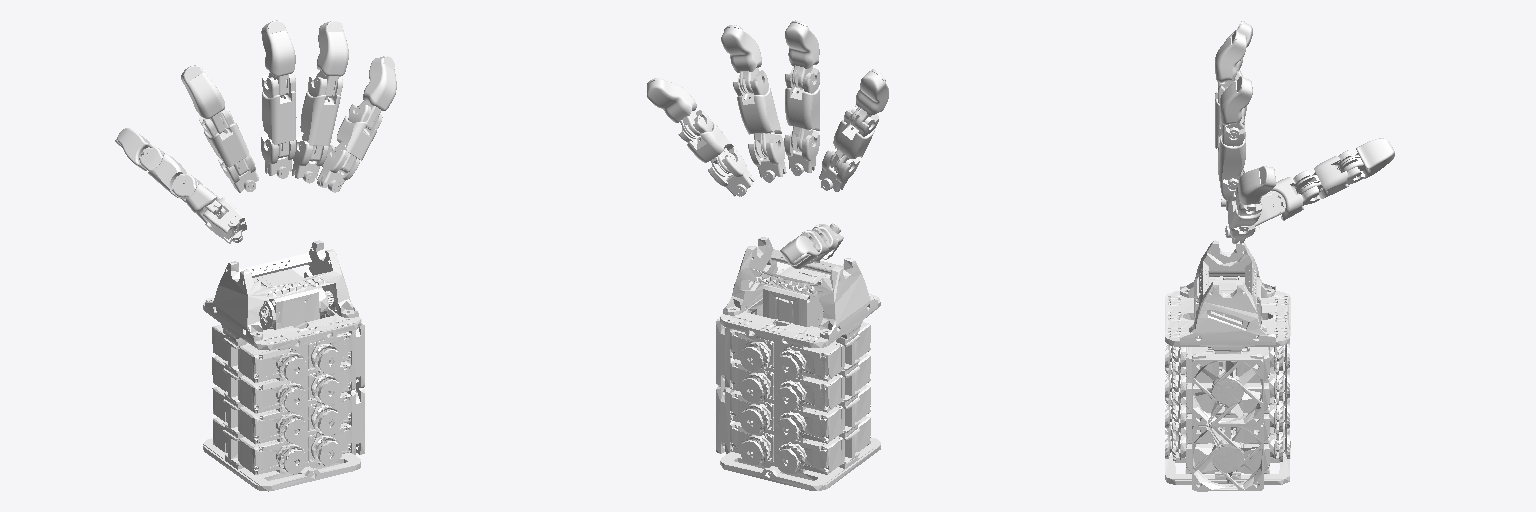
--- Facts derived from the render (not from the file) ---
3 views of the same robot in one strip: view 1: azimuth 30°, elevation 25°; view 2: azimuth 150°, elevation 25°; view 3: azimuth 270°, elevation 25° (orthographic).
Robot: converted_robot — 47 links, 46 joints (17 revolute, 29 fixed); root link hand_root; default pose: all joints at 0.
Links seen in each view (by area): view 1: tower, ring_pp, middle_pp, ring_mp, middle_mp, pinky_pp, pinky_mp, index_mp, index_pp, thumb_mp, thumb_pp, thumb_base (+5 smaller); view 2: tower, ring_pp, middle_pp, pinky_mp, ring_mp, pinky_pp, middle_mp, index_pp, index_mp, pinky_um, ring_um, middle_um (+2 smaller); view 3: tower, thumb_mp, ring_pp, thumb_pp, ring_mp, thumb_dp, pinky_mp, middle_mp, pinky_pp.
Link boxes in pixels (bbox=[...]): tower: bbox=[203, 240, 364, 491]; ring_pp: bbox=[299, 75, 342, 160]; middle_pp: bbox=[262, 75, 296, 157]; ring_mp: bbox=[314, 21, 348, 97]; middle_mp: bbox=[261, 20, 295, 96]; pinky_pp: bbox=[332, 104, 382, 172]; pinky_mp: bbox=[355, 56, 396, 129]; index_mp: bbox=[181, 65, 228, 133]; index_pp: bbox=[199, 108, 248, 175]; thumb_mp: bbox=[139, 146, 199, 202]; thumb_pp: bbox=[173, 173, 225, 223]; thumb_base: bbox=[203, 197, 246, 243]; tower: bbox=[716, 237, 880, 490]; ring_pp: bbox=[733, 70, 781, 157]; middle_pp: bbox=[785, 66, 819, 151]; pinky_mp: bbox=[647, 78, 705, 138]; ring_mp: bbox=[721, 25, 762, 93]; pinky_pp: bbox=[678, 110, 735, 176]; middle_mp: bbox=[785, 20, 819, 88]; index_pp: bbox=[830, 104, 878, 171]; index_mp: bbox=[850, 69, 888, 129]; pinky_um: bbox=[708, 148, 754, 196]; ring_um: bbox=[748, 135, 786, 182]; middle_um: bbox=[784, 131, 819, 175]; tower: bbox=[1165, 240, 1290, 491]; thumb_mp: bbox=[1296, 150, 1364, 198]; ring_pp: bbox=[1218, 116, 1245, 189]; thumb_pp: bbox=[1266, 170, 1320, 220]; ring_mp: bbox=[1220, 76, 1252, 138]; thumb_dp: bbox=[1339, 138, 1394, 178]; pinky_mp: bbox=[1236, 166, 1275, 211]; middle_mp: bbox=[1215, 31, 1246, 89]; pinky_pp: bbox=[1228, 187, 1261, 231].
Size in the robot's own frame: 0.1751 by 0.1587 by 0.3253 metres.
17 mesh visuals loaded from 10 distinct referenced files (9 binary STL); not drawn: 1 (reference not matched to a file when rendering).

URDF robot description (converted_robot):
<?xml version="1.0" ?>
<robot name="converted_robot">

   <link name="hand_root">
      <inertial>
         <origin xyz="0.0 0.0 0.0" rpy="0.0 0.0 0.0"/>
         <mass value="0.0"/>
         <inertia ixx="0.0" iyy="0.0" izz="0.0" ixy="0" ixz="0" iyz="0"/>
      </inertial>
   </link>
   <link name="tower">
      <inertial>
         <origin xyz="0.04400415913446807 -0.00019600571598279832 0.016186968516348432" rpy="-0.04390970715787945 -0.010429109452127383 1.5584993556360334"/>
         <mass value="2.9399146871191753"/>
         <inertia ixx="0.004203087796313103" iyy="0.004033870993159062" izz="0.0021268483526808678" ixy="0" ixz="0" iyz="0"/>
      </inertial>
      <visual name="TowerAssembly">
         <origin xyz="0.04400415913446807 -0.00019600571598279832 0.016186968516348432" rpy="-0.04390970715787934 -0.010429109452127161 1.5584993556360331"/>
         <geometry>
            <mesh filename="package://viz/models/orca_v1/urdf/converted_TowerAssembly.stl"/>
         </geometry>
         <material name="white"/>
      </visual>
   </link>
   <link name="root2tower_fixed_jointbody">
      <inertial>
         <origin xyz="0.0 0.0 0.0" rpy="0.0 0.0 0.0"/>
         <mass value="0.001"/>
         <inertia ixx="1e-09" iyy="1e-09" izz="1e-09" ixy="0" ixz="0" iyz="0"/>
      </inertial>
   </link>
   <joint type="fixed" name="root2tower_fixed">
      <parent link="hand_root"/>
      <child link="root2tower_fixed_jointbody"/>
      <origin xyz="0.0 0.0 0.0" rpy="0.0 0.0 0.0"/>
   </joint>
   <joint type="fixed" name="root2tower_fixed_offset">
      <parent link="root2tower_fixed_jointbody"/>
      <child link="tower"/>
      <origin xyz="-0.0 -0.0 -0.0" rpy="0.0 0.0 0.0"/>
   </joint>
   <link name="palm">
      <inertial>
         <origin xyz="0.002881508885013908 -0.0012753763120547524 -0.00719047153594366" rpy="1.5601655784799395 0.04189793519330931 1.5819461028160493"/>
         <mass value="0.2126860092978223"/>
         <inertia ixx="0.00012178343495389645" iyy="8.316880938872915e-05" izz="5.69755490120493e-05" ixy="0" ixz="0" iyz="0"/>
      </inertial>
      <visual name="CarpalsAssembly">
         <origin xyz="0.002881508885013908 -0.0012753763120547524 -0.00719047153594366" rpy="1.5601655784799395 0.041897935193309754 1.5819461028160493"/>
         <geometry>
            <mesh filename="package://viz/models/orca_v1/urdf/converted_CarpalsAssembly.stl"/>
         </geometry>
         <material name="white"/>
      </visual>
   </link>
   <link name="tower2root_jointbody">
      <inertial>
         <origin xyz="0.0 0.0 0.0" rpy="0.0 0.0 0.0"/>
         <mass value="0.001"/>
         <inertia ixx="1e-09" iyy="1e-09" izz="1e-09" ixy="0" ixz="0" iyz="0"/>
      </inertial>
   </link>
   <joint type="revolute" name="tower2root">
      <parent link="tower"/>
      <child link="tower2root_jointbody"/>
      <origin xyz="0.04062890845062731 3.686287386450715e-18 0.10237107458169505" rpy="-6.123233995736781e-17 -4.440892098500626e-16 1.942890293094021e-16"/>
      <axis xyz="-1.0000000000000009 -1.4791141972893971e-31 -1.0947644252537633e-46"/>
      <limit lower="-1.0471975511965976" upper="1.0471975511965976" effort="100" velocity="100"/>
   </joint>
   <joint type="fixed" name="tower2root_offset">
      <parent link="tower2root_jointbody"/>
      <child link="palm"/>
      <origin xyz="-0.002000000000000012 0.0014412498723578018 0.03871931353519552" rpy="0.0 0.0 0.0"/>
   </joint>
   <link name="thumb_base">
      <inertial>
         <origin xyz="0.010529379149451916 -1.0212576814423867e-05 8.495774869309947e-06" rpy="1.57634205707723 0.005687598820466988 1.5702436138290756"/>
         <mass value="0.0074875144010899545"/>
         <inertia ixx="4.915455361035425e-07" iyy="4.2329004702934465e-07" izz="4.1073011191217545e-07" ixy="0" ixz="0" iyz="0"/>
      </inertial>
      <visual name="T-TP-Assembly">
         <origin xyz="0.010529379149451916 -1.0212576814423867e-05 8.495774869309947e-06" rpy="1.5763420570772302 0.005687598820466988 1.5702436138290758"/>
         <geometry>
            <mesh filename="package://viz/models/orca_v1/urdf/converted_T-TP-Assembly.stl"/>
         </geometry>
         <material name="white"/>
      </visual>
   </link>
   <link name="root2thumb_base_jointbody">
      <inertial>
         <origin xyz="0.0 0.0 0.0" rpy="0.0 0.0 0.0"/>
         <mass value="0.001"/>
         <inertia ixx="1e-09" iyy="1e-09" izz="1e-09" ixy="0" ixz="0" iyz="0"/>
      </inertial>
   </link>
   <joint type="revolute" name="root2thumb_base">
      <parent link="palm"/>
      <child link="root2thumb_base_jointbody"/>
      <origin xyz="-0.026596228805379245 0.012467608905357173 -0.013731317517900202" rpy="-2.623243999248972 0.36429799059196055 -1.2778314442697774"/>
      <axis xyz="-2.920774733183862e-12 3.3306690738754696e-16 1.0000000000000002"/>
      <limit lower="-0.9250245035569946" upper="0.8377580409572782" effort="100" velocity="100"/>
   </joint>
   <joint type="fixed" name="root2thumb_base_offset">
      <parent link="root2thumb_base_jointbody"/>
      <child link="thumb_base"/>
      <origin xyz="-0.016999999999975042 -6.852157730108388e-17 -2.7301511745791984e-14" rpy="0.0 0.0 0.0"/>
   </joint>
   <link name="thumb_pp">
      <inertial>
         <origin xyz="0.01701004352669714 4.7003303999020595e-05 -8.686628129100978e-05" rpy="1.626541463931455 -1.4723264578922137 1.5252609362500364"/>
         <mass value="0.01402737042708516"/>
         <inertia ixx="1.3800850209807166e-06" iyy="1.1809029407566535e-06" izz="6.941321836664285e-07" ixy="0" ixz="0" iyz="0"/>
      </inertial>
      <visual name="T-AP-Assembly">
         <origin xyz="0.01701004352669714 4.7003303999020595e-05 -8.686628129100978e-05" rpy="1.6265414639314582 -1.4723264578922137 1.5252609362500333"/>
         <geometry>
            <mesh filename="package://viz/models/orca_v1/urdf/converted_T-AP-Assembly.stl"/>
         </geometry>
         <material name="white"/>
      </visual>
   </link>
   <link name="thumb_base2pp_jointbody">
      <inertial>
         <origin xyz="0.0 0.0 0.0" rpy="0.0 0.0 0.0"/>
         <mass value="0.001"/>
         <inertia ixx="1e-09" iyy="1e-09" izz="1e-09" ixy="0" ixz="0" iyz="0"/>
      </inertial>
   </link>
   <joint type="revolute" name="thumb_base2pp">
      <parent link="thumb_base"/>
      <child link="thumb_base2pp_jointbody"/>
      <origin xyz="-2.0816681711721685e-17 -0.006690243410563722 -0.00030669391648898483" rpy="1.9198621771937625 2.220446049250313e-16 -1.1102230246251565e-16"/>
      <axis xyz="-1.1102230246251565e-16 0.34202014332566866 0.9396926207859075"/>
      <limit lower="-0.7853981633974483" upper="0.7853981633974483" effort="100" velocity="100"/>
   </joint>
   <joint type="fixed" name="thumb_base2pp_offset">
      <parent link="thumb_base2pp_jointbody"/>
      <child link="thumb_pp"/>
      <origin xyz="-0.03 -0.002 -0.0063916678614429154" rpy="0.0 0.0 0.0"/>
   </joint>
   <link name="thumb_mp">
      <inertial>
         <origin xyz="0.0014151363770926754 5.956925618599269e-06 0.013627702691985757" rpy="-0.0012564590227194135 0.024765536359687035 0.0006197733490160217"/>
         <mass value="0.015497848277221124"/>
         <inertia ixx="1.846626969865921e-06" iyy="1.771855178330145e-06" izz="6.563672279788464e-07" ixy="0" ixz="0" iyz="0"/>
      </inertial>
      <visual name="P-PP-Assembly">
         <origin xyz="0.0014151363770926754 5.956925618599269e-06 0.013627702691985757" rpy="-0.0012564590227194135 0.024765536359687035 0.0006197733490160217"/>
         <geometry>
            <mesh filename="package://viz/models/orca_v1/urdf/converted_P-PP-Assembly.stl"/>
         </geometry>
         <material name="white"/>
      </visual>
   </link>
   <link name="thumb_pp2mp_jointbody">
      <inertial>
         <origin xyz="0.0 0.0 0.0" rpy="0.0 0.0 0.0"/>
         <mass value="0.001"/>
         <inertia ixx="1e-09" iyy="1e-09" izz="1e-09" ixy="0" ixz="0" iyz="0"/>
      </inertial>
   </link>
   <joint type="revolute" name="thumb_pp2mp">
      <parent link="thumb_pp"/>
      <child link="thumb_pp2mp_jointbody"/>
      <origin xyz="4.708523807784693e-17 1.513645907263937e-16 -4.2834101494079344e-17" rpy="-3.1415926535897927 1.5707963267948948 0.0"/>
      <axis xyz="-1.27675647831893e-15 -0.9999999999999994 4.996003610813204e-16"/>
      <limit lower="-0.3490658503988659" upper="2.007128639793479" effort="100" velocity="100"/>
   </joint>
   <joint type="fixed" name="thumb_pp2mp_offset">
      <parent link="thumb_pp2mp_jointbody"/>
      <child link="thumb_mp"/>
      <origin xyz="0.0 0.0 0.0" rpy="0.0 0.0 0.0"/>
   </joint>
   <link name="thumb_dp">
      <inertial>
         <origin xyz="0.0019263407363933048 1.4557758490367377e-05 0.013252605089620229" rpy="0.0005042469448421566 -0.01731928165759511 -0.007693848109361373"/>
         <mass value="0.01818889883021656"/>
         <inertia ixx="1.7342479877374563e-06" iyy="1.6928601517092007e-06" izz="6.72000990269703e-07" ixy="0" ixz="0" iyz="0"/>
      </inertial>
      <visual name="ThumbTipAssembly">
         <origin xyz="0.0019263407363933048 1.4557758490367377e-05 0.013252605089620229" rpy="0.0005042469448421566 -0.01731928165759511 -0.007693848109361373"/>
         <geometry>
            <mesh filename="package://viz/models/orca_v1/urdf/converted_ThumbTipAssembly.stl"/>
         </geometry>
         <material name="white"/>
      </visual>
   </link>
   <link name="thumb_mp2dp_jointbody">
      <inertial>
         <origin xyz="0.0 0.0 0.0" rpy="0.0 0.0 0.0"/>
         <mass value="0.001"/>
         <inertia ixx="1e-09" iyy="1e-09" izz="1e-09" ixy="0" ixz="0" iyz="0"/>
      </inertial>
   </link>
   <joint type="revolute" name="thumb_mp2dp">
      <parent link="thumb_mp"/>
      <child link="thumb_mp2dp_jointbody"/>
      <origin xyz="0.0004999999999845258 1.960237527853792e-16 0.03299999999999989" rpy="-4.440892098500625e-16 -4.440892098500626e-16 -1.110223024625157e-15"/>
      <axis xyz="-1.3877787807814457e-16 -1.0000000000000018 1.6653345369377348e-16"/>
      <limit lower="-0.3490658503988659" upper="1.7453292519943295" effort="100" velocity="100"/>
   </joint>
   <joint type="fixed" name="thumb_mp2dp_offset">
      <parent link="thumb_mp2dp_jointbody"/>
      <child link="thumb_dp"/>
      <origin xyz="0.0 0.0 -0.0" rpy="0.0 0.0 0.0"/>
   </joint>
   <link name="thumb_fingertip">
      <inertial>
         <origin xyz="0.0 0.0 0.03" rpy="0.0 0.0 0.0"/>
         <mass value="0.0"/>
         <inertia ixx="0.0" iyy="0.0" izz="0.0" ixy="0" ixz="0" iyz="0"/>
      </inertial>
   </link>
   <link name="thumb_dp2thumb_fingertip_fixed_jointbody">
      <inertial>
         <origin xyz="0.0 0.0 0.0" rpy="0.0 0.0 0.0"/>
         <mass value="0.001"/>
         <inertia ixx="1e-09" iyy="1e-09" izz="1e-09" ixy="0" ixz="0" iyz="0"/>
      </inertial>
   </link>
   <joint type="fixed" name="thumb_dp2thumb_fingertip_fixed">
      <parent link="thumb_dp"/>
      <child link="thumb_dp2thumb_fingertip_fixed_jointbody"/>
      <origin xyz="0.0 0.0 0.03" rpy="0.0 0.0 0.0"/>
   </joint>
   <joint type="fixed" name="thumb_dp2thumb_fingertip_fixed_offset">
      <parent link="thumb_dp2thumb_fingertip_fixed_jointbody"/>
      <child link="thumb_fingertip"/>
      <origin xyz="-0.0 -0.0 -0.0" rpy="0.0 0.0 0.0"/>
   </joint>
   <link name="index_um">
      <inertial>
         <origin xyz="0.011354078973426326 -1.7071698548170895e-06 -3.5584781475470163e-06" rpy="-0.7312124368167698 -1.5694148998517659 -2.4105624217590647"/>
         <mass value="0.006625913032045117"/>
         <inertia ixx="4.786348664569036e-07" iyy="4.4192916777269033e-07" izz="2.7095034582421024e-07" ixy="0" ixz="0" iyz="0"/>
      </inertial>
      <visual name="AP-Assembly">
         <origin xyz="0.011354078973426326 -1.7071698548170895e-06 -3.5584781475470163e-06" rpy="-0.7312124368167698 -1.5694148998517659 -2.4105624217590647"/>
         <geometry>
            <mesh filename="package://viz/models/orca_v1/urdf/converted_AP-Assembly.stl"/>
         </geometry>
         <material name="white"/>
      </visual>
   </link>
   <link name="index_abd_jointbody">
      <inertial>
         <origin xyz="0.0 0.0 0.0" rpy="0.0 0.0 0.0"/>
         <mass value="0.001"/>
         <inertia ixx="1e-09" iyy="1e-09" izz="1e-09" ixy="0" ixz="0" iyz="0"/>
      </inertial>
   </link>
   <joint type="revolute" name="index_abd">
      <parent link="palm"/>
      <child link="index_abd_jointbody"/>
      <origin xyz="-0.02409178493002779 0.0019042822195537534 0.025160679302658893" rpy="1.608102038715379 1.1529632074851635 -0.051848338904223135"/>
      <axis xyz="4.163336342344337e-17 9.992007221626409e-16 -1.0000000000000013"/>
      <limit lower="-0.5235987755982988" upper="0.5235987755982988" effort="100" velocity="100"/>
   </joint>
   <joint type="fixed" name="index_abd_offset">
      <parent link="index_abd_jointbody"/>
      <child link="index_um"/>
      <origin xyz="-0.020000000000000052 2.3852447794681098e-18 -4.336808689942018e-19" rpy="0.0 0.0 0.0"/>
   </joint>
   <link name="index_pp">
      <inertial>
         <origin xyz="0.0014143363519175582 4.156494435167203e-06 0.01613338680226874" rpy="-0.001102572366200157 0.015527459248408038 0.0006067795128342916"/>
         <mass value="0.018700586463984262"/>
         <inertia ixx="2.662336289616557e-06" iyy="2.5653412309208117e-06" izz="8.02677011751458e-07" ixy="0" ixz="0" iyz="0"/>
      </inertial>
      <visual name="I-PP-Assembly">
         <origin xyz="0.0014143363519175582 4.156494435167203e-06 0.01613338680226874" rpy="-0.001102572366200157 0.015527459248408038 0.0006067795128342916"/>
         <geometry>
            <mesh filename="package://viz/models/orca_v1/urdf/converted_I-PP-Assembly.stl"/>
         </geometry>
         <material name="white"/>
      </visual>
   </link>
   <link name="root2index_pp_jointbody">
      <inertial>
         <origin xyz="0.0 0.0 0.0" rpy="0.0 0.0 0.0"/>
         <mass value="0.001"/>
         <inertia ixx="1e-09" iyy="1e-09" izz="1e-09" ixy="0" ixz="0" iyz="0"/>
      </inertial>
   </link>
   <joint type="revolute" name="root2index_pp">
      <parent link="index_um"/>
      <child link="root2index_pp_jointbody"/>
      <origin xyz="-2.5541056475587942e-17 1.0557908552474885e-17 -8.628646044820514e-18" rpy="-7.850462293418875e-17 -1.5707963267948963 0.0"/>
      <axis xyz="-1.1102230246251565e-15 -0.9999999999999998 -8.326672684688674e-17"/>
      <limit lower="-0.3490658503988659" upper="1.9198621771937625" effort="100" velocity="100"/>
   </joint>
   <joint type="fixed" name="root2index_pp_offset">
      <parent link="root2index_pp_jointbody"/>
      <child link="index_pp"/>
      <origin xyz="8.62864604482052e-18 -1.0557908552474884e-17 -2.5541056475587933e-17" rpy="0.0 0.0 0.0"/>
   </joint>
   <link name="index_mp">
      <inertial>
         <origin xyz="0.0004395758025904904 2.294210842752089e-05 0.017234999921076924" rpy="-0.0002952414540531474 -0.13694120498566353 0.004582776782163111"/>
         <mass value="0.018229214728618118"/>
         <inertia ixx="2.7483316705449915e-06" iyy="2.7260398150926247e-06" izz="5.982307965118894e-07" ixy="0" ixz="0" iyz="0"/>
      </inertial>
      <visual name="FingerTipAssembly">
         <origin xyz="0.0004395758025904904 2.294210842752089e-05 0.017234999921076924" rpy="-0.0002952414540531474 -0.13694120498566353 0.004582776782163111"/>
         <geometry>
            <mesh filename="package://viz/models/orca_v1/urdf/converted_FingerTipAssembly.stl"/>
         </geometry>
         <material name="white"/>
      </visual>
   </link>
   <link name="index_pp2mp_jointbody">
      <inertial>
         <origin xyz="0.0 0.0 0.0" rpy="0.0 0.0 0.0"/>
         <mass value="0.001"/>
         <inertia ixx="1e-09" iyy="1e-09" izz="1e-09" ixy="0" ixz="0" iyz="0"/>
      </inertial>
   </link>
   <joint type="revolute" name="index_pp2mp">
      <parent link="index_pp"/>
      <child link="index_pp2mp_jointbody"/>
      <origin xyz="0.0004999999999839601 6.589248156966668e-17 0.038" rpy="0.0 0.0 1.1102230246251565e-16"/>
      <axis xyz="-1.1102230246251565e-15 -0.9999999999999998 -8.326672684688674e-17"/>
      <limit lower="-0.3490658503988659" upper="2.2689280275926285" effort="100" velocity="100"/>
   </joint>
   <joint type="fixed" name="index_pp2mp_offset">
      <parent link="index_pp2mp_jointbody"/>
      <child link="index_mp"/>
      <origin xyz="4.506562989359519e-18 -5.895358766575946e-17 -6.487401240321147e-17" rpy="0.0 0.0 0.0"/>
   </joint>
   <link name="index_fingertip">
      <inertial>
         <origin xyz="-0.009 0.0 0.04" rpy="0.0 0.0 0.0"/>
         <mass value="0.0"/>
         <inertia ixx="0.0" iyy="0.0" izz="0.0" ixy="0" ixz="0" iyz="0"/>
      </inertial>
   </link>
   <link name="index_mp2index_fingertip_fixed_jointbody">
      <inertial>
         <origin xyz="0.0 0.0 0.0" rpy="0.0 0.0 0.0"/>
         <mass value="0.001"/>
         <inertia ixx="1e-09" iyy="1e-09" izz="1e-09" ixy="0" ixz="0" iyz="0"/>
      </inertial>
   </link>
   <joint type="fixed" name="index_mp2index_fingertip_fixed">
      <parent link="index_mp"/>
      <child link="index_mp2index_fingertip_fixed_jointbody"/>
      <origin xyz="-0.009 0.0 0.04" rpy="0.0 0.0 0.0"/>
   </joint>
   <joint type="fixed" name="index_mp2index_fingertip_fixed_offset">
      <parent link="index_mp2index_fingertip_fixed_jointbody"/>
      <child link="index_fingertip"/>
      <origin xyz="-0.0 -0.0 -0.0" rpy="0.0 0.0 0.0"/>
   </joint>
   <link name="pinky_um">
      <inertial>
         <origin xyz="0.011354078973426326 -1.7071698548170895e-06 -3.5584781475470163e-06" rpy="-0.7312124368167698 -1.5694148998517659 -2.4105624217590647"/>
         <mass value="0.006625913032045117"/>
         <inertia ixx="4.786348664569036e-07" iyy="4.4192916777269033e-07" izz="2.7095034582421024e-07" ixy="0" ixz="0" iyz="0"/>
      </inertial>
      <visual name="AP-Assembly">
         <origin xyz="0.011354078973426326 -1.7071698548170895e-06 -3.5584781475470163e-06" rpy="-0.7312124368167698 -1.5694148998517659 -2.4105624217590647"/>
         <geometry>
            <mesh filename="package://viz/models/orca_v1/urdf/converted_AP-Assembly.stl"/>
         </geometry>
         <material name="white"/>
      </visual>
   </link>
   <link name="pinky_abd_jointbody">
      <inertial>
         <origin xyz="0.0 0.0 0.0" rpy="0.0 0.0 0.0"/>
         <mass value="0.001"/>
         <inertia ixx="1e-09" iyy="1e-09" izz="1e-09" ixy="0" ixz="0" iyz="0"/>
      </inertial>
   </link>
   <joint type="revolute" name="pinky_abd">
      <parent link="palm"/>
      <child link="pinky_abd_jointbody"/>
      <origin xyz="0.04258768282792981 0.004991925321003577 0.007247738795820427" rpy="-1.4969430651841689 0.8614853700810636 -2.883730096597108"/>
      <axis xyz="1.942890293094024e-16 -5.551115123125783e-16 -0.9999999999999997"/>
      <limit lower="-0.5235987755982988" upper="0.5235987755982988" effort="100" velocity="100"/>
   </joint>
   <joint type="fixed" name="pinky_abd_offset">
      <parent link="pinky_abd_jointbody"/>
      <child link="pinky_um"/>
      <origin xyz="-0.020000000000000014 -2.42861286636753e-17 -6.071532165918825e-18" rpy="0.0 0.0 0.0"/>
   </joint>
   <link name="pinky_pp">
      <inertial>
         <origin xyz="0.0014151363770926754 5.956925618599269e-06 0.013627702691985757" rpy="-0.0012564590227194135 0.024765536359687035 0.0006197733490160217"/>
         <mass value="0.015497848277221124"/>
         <inertia ixx="1.846626969865921e-06" iyy="1.771855178330145e-06" izz="6.563672279788464e-07" ixy="0" ixz="0" iyz="0"/>
      </inertial>
      <visual name="P-PP-Assembly">
         <origin xyz="0.0014151363770926754 5.956925618599269e-06 0.013627702691985757" rpy="-0.0012564590227194135 0.024765536359687035 0.0006197733490160217"/>
         <geometry>
            <mesh filename="package://viz/models/orca_v1/urdf/converted_P-PP-Assembly.stl"/>
         </geometry>
         <material name="white"/>
      </visual>
   </link>
   <link name="root2pinky_pp_jointbody">
      <inertial>
         <origin xyz="0.0 0.0 0.0" rpy="0.0 0.0 0.0"/>
         <mass value="0.001"/>
         <inertia ixx="1e-09" iyy="1e-09" izz="1e-09" ixy="0" ixz="0" iyz="0"/>
      </inertial>
   </link>
   <joint type="revolute" name="root2pinky_pp">
      <parent link="pinky_um"/>
      <child link="root2pinky_pp_jointbody"/>
      <origin xyz="-9.80194474041885e-17 2.8970456895533516e-17 -1.0346526674750982e-18" rpy="7.850462293418872e-17 -1.5707963267948961 0.0"/>
      <axis xyz="-1.6653345369377348e-16 -1.0000000000000004 -2.220446049250313e-16"/>
      <limit lower="-0.3490658503988659" upper="1.9198621771937625" effort="100" velocity="100"/>
   </joint>
   <joint type="fixed" name="root2pinky_pp_offset">
      <parent link="root2pinky_pp_jointbody"/>
      <child link="pinky_pp"/>
      <origin xyz="-3.4409772224679328e-18 -3.9175276362032155e-17 -1.0647123163719203e-16" rpy="0.0 0.0 0.0"/>
   </joint>
   <link name="pinky_mp">
      <inertial>
         <origin xyz="0.0004395758025904904 2.294210842752089e-05 0.017234999921076924" rpy="-0.0002952414540531474 -0.13694120498566353 0.004582776782163111"/>
         <mass value="0.018229214728618118"/>
         <inertia ixx="2.7483316705449915e-06" iyy="2.7260398150926247e-06" izz="5.982307965118894e-07" ixy="0" ixz="0" iyz="0"/>
      </inertial>
      <visual name="FingerTipAssembly">
         <origin xyz="0.0004395758025904904 2.294210842752089e-05 0.017234999921076924" rpy="-0.0002952414540531474 -0.13694120498566353 0.004582776782163111"/>
         <geometry>
            <mesh filename="package://viz/models/orca_v1/urdf/converted_FingerTipAssembly.stl"/>
         </geometry>
         <material name="white"/>
      </visual>
   </link>
   <link name="pinky_pp2mp_jointbody">
      <inertial>
         <origin xyz="0.0 0.0 0.0" rpy="0.0 0.0 0.0"/>
         <mass value="0.001"/>
         <inertia ixx="1e-09" iyy="1e-09" izz="1e-09" ixy="0" ixz="0" iyz="0"/>
      </inertial>
   </link>
   <joint type="revolute" name="pinky_pp2mp">
      <parent link="pinky_pp"/>
      <child link="pinky_pp2mp_jointbody"/>
      <origin xyz="0.0004999999999844908 -2.39390297194962e-18 0.032999999999999946" rpy="-1.1102230246251565e-16 0.0 -1.1102230246251565e-16"/>
      <axis xyz="-2.7755575615628914e-16 -1.0000000000000007 -2.498001805406602e-16"/>
      <limit lower="-0.3490658503988659" upper="2.2689280275926285" effort="100" velocity="100"/>
   </joint>
   <joint type="fixed" name="pinky_pp2mp_offset">
      <parent link="pinky_pp2mp_jointbody"/>
      <child link="pinky_mp"/>
      <origin xyz="4.630531374131085e-18 3.7088372491485756e-17 3.145406773126967e-17" rpy="0.0 0.0 0.0"/>
   </joint>
   <link name="pinky_fingertip">
      <inertial>
         <origin xyz="-0.009 0.0 0.04" rpy="0.0 0.0 0.0"/>
         <mass value="0.0"/>
         <inertia ixx="0.0" iyy="0.0" izz="0.0" ixy="0" ixz="0" iyz="0"/>
      </inertial>
   </link>
   <link name="pinky_mp2pinky_fingertip_fixed_jointbody">
      <inertial>
         <origin xyz="0.0 0.0 0.0" rpy="0.0 0.0 0.0"/>
         <mass value="0.001"/>
         <inertia ixx="1e-09" iyy="1e-09" izz="1e-09" ixy="0" ixz="0" iyz="0"/>
      </inertial>
   </link>
   <joint type="fixed" name="pinky_mp2pinky_fingertip_fixed">
      <parent link="pinky_mp"/>
      <child link="pinky_mp2pinky_fingertip_fixed_jointbody"/>
      <origin xyz="-0.009 0.0 0.04" rpy="0.0 0.0 0.0"/>
   </joint>
   <joint type="fixed" name="pinky_mp2pinky_fingertip_fixed_offset">
      <parent link="pinky_mp2pinky_fingertip_fixed_jointbody"/>
      <child link="pinky_fingertip"/>
      <origin xyz="-0.0 -0.0 -0.0" rpy="0.0 0.0 0.0"/>
   </joint>
   <link name="middle_um">
      <inertial>
         <origin xyz="0.011354078973426326 -1.7071698548170895e-06 -3.5584781475470163e-06" rpy="-0.7312124368167698 -1.5694148998517659 -2.4105624217590647"/>
         <mass value="0.006625913032045117"/>
         <inertia ixx="4.786348664569036e-07" iyy="4.4192916777269033e-07" izz="2.7095034582421024e-07" ixy="0" ixz="0" iyz="0"/>
      </inertial>
      <visual name="AP-Assembly">
         <origin xyz="0.011354078973426326 -1.7071698548170895e-06 -3.5584781475470163e-06" rpy="-0.7312124368167698 -1.5694148998517659 -2.4105624217590647"/>
         <geometry>
            <mesh filename="package://viz/models/orca_v1/urdf/converted_AP-Assembly.stl"/>
         </geometry>
         <material name="white"/>
      </visual>
   </link>
   <link name="middle_abd_jointbody">
      <inertial>
         <origin xyz="0.0 0.0 0.0" rpy="0.0 0.0 0.0"/>
         <mass value="0.001"/>
         <inertia ixx="1e-09" iyy="1e-09" izz="1e-09" ixy="0" ixz="0" iyz="0"/>
      </inertial>
   </link>
   <joint type="revolute" name="middle_abd">
      <parent link="palm"/>
      <child link="middle_abd_jointbody"/>
      <origin xyz="4.881579836291013e-18 -8.567697285510997e-18 0.03" rpy="1.5707963267948966 1.5707963267948966 0.0"/>
      <axis xyz="-9.645057161491277e-31 -1.6653345369377348e-16 -0.9999999999999998"/>
      <limit lower="-0.5235987755982988" upper="0.5235987755982988" effort="100" velocity="100"/>
   </joint>
   <joint type="fixed" name="middle_abd_offset">
      <parent link="middle_abd_jointbody"/>
      <child link="middle_um"/>
      <origin xyz="-0.019999999999999987 -3.771356811665857e-18 1.701695755040975e-18" rpy="0.0 0.0 0.0"/>
   </joint>
   <link name="middle_pp">
      <inertial>
         <origin xyz="0.0015215641155183913 3.409155126104343e-06 0.019988197676665105" rpy="-0.0008675700761155622 0.013815007172908844 0.001849376719566181"/>
         <mass value="0.023556963904505242"/>
         <inertia ixx="4.4203229364973464e-06" iyy="4.276694367220302e-06" izz="1.0089823927588865e-06" ixy="0" ixz="0" iyz="0"/>
      </inertial>
      <visual name="M-PP-Assembly">
         <origin xyz="0.0015215641155183913 3.409155126104343e-06 0.019988197676665105" rpy="-0.000867570076115562 0.013815007172908844 0.0018493767195661807"/>
         <geometry>
            <mesh filename="package://viz/models/orca_v1/urdf/converted_M-PP-Assembly.stl"/>
         </geometry>
         <material name="white"/>
      </visual>
   </link>
   <link name="root2middle_pp_jointbody">
      <inertial>
         <origin xyz="0.0 0.0 0.0" rpy="0.0 0.0 0.0"/>
         <mass value="0.001"/>
         <inertia ixx="1e-09" iyy="1e-09" izz="1e-09" ixy="0" ixz="0" iyz="0"/>
      </inertial>
   </link>
   <joint type="revolute" name="root2middle_pp">
      <parent link="middle_um"/>
      <child link="root2middle_pp_jointbody"/>
      <origin xyz="-8.326672684688675e-17 1.0477058897466563e-31 9.860761315262648e-32" rpy="0.0 -1.5707963267948963 0.0"/>
      <axis xyz="1.1102230246251565e-16 -1.0000000000000004 -2.7755575615628914e-17"/>
      <limit lower="-0.3490658503988659" upper="1.9198621771937625" effort="100" velocity="100"/>
   </joint>
   <joint type="fixed" name="root2middle_pp_offset">
      <parent link="root2middle_pp_jointbody"/>
      <child link="middle_pp"/>
      <origin xyz="-8.011868568650901e-32 -1.0477058897466563e-31 -8.326672684688675e-17" rpy="0.0 0.0 0.0"/>
   </joint>
   <link name="middle_mp">
      <inertial>
         <origin xyz="0.0004395758025904904 2.294210842752089e-05 0.017234999921076924" rpy="-0.0002952414540531474 -0.13694120498566353 0.004582776782163111"/>
         <mass value="0.018229214728618118"/>
         <inertia ixx="2.7483316705449915e-06" iyy="2.7260398150926247e-06" izz="5.982307965118894e-07" ixy="0" ixz="0" iyz="0"/>
      </inertial>
      <visual name="FingerTipAssembly">
         <origin xyz="0.0004395758025904904 2.294210842752089e-05 0.017234999921076924" rpy="-0.0002952414540531474 -0.13694120498566353 0.004582776782163111"/>
         <geometry>
            <mesh filename="package://viz/models/orca_v1/urdf/converted_FingerTipAssembly.stl"/>
         </geometry>
         <material name="white"/>
      </visual>
   </link>
   <link name="middle_pp2mp_jointbody">
      <inertial>
         <origin xyz="0.0 0.0 0.0" rpy="0.0 0.0 0.0"/>
         <mass value="0.001"/>
         <inertia ixx="1e-09" iyy="1e-09" izz="1e-09" ixy="0" ixz="0" iyz="0"/>
      </inertial>
   </link>
   <joint type="revolute" name="middle_pp2mp">
      <parent link="middle_pp"/>
      <child link="middle_pp2mp_jointbody"/>
      <origin xyz="0.0004999999999727624 -3.4694469519535125e-18 0.04600000000000015" rpy="0.0 0.0 0.0"/>
      <axis xyz="1.1102230246251565e-16 -1.0000000000000004 -2.7755575615628914e-17"/>
      <limit lower="-0.3490658503988659" upper="2.2689280275926285" effort="100" velocity="100"/>
   </joint>
   <joint type="fixed" name="middle_pp2mp_offset">
      <parent link="middle_pp2mp_jointbody"/>
      <child link="middle_mp"/>
      <origin xyz="-5.421010862428354e-19 -1.0168910106364605e-31 -8.326672684688675e-17" rpy="0.0 0.0 0.0"/>
   </joint>
   <link name="middle_fingertip">
      <inertial>
         <origin xyz="-0.009 0.0 0.04" rpy="0.0 0.0 0.0"/>
         <mass value="0.0"/>
         <inertia ixx="0.0" iyy="0.0" izz="0.0" ixy="0" ixz="0" iyz="0"/>
      </inertial>
   </link>
   <link name="middle_mp2middle_fingertip_fixed_jointbody">
      <inertial>
         <origin xyz="0.0 0.0 0.0" rpy="0.0 0.0 0.0"/>
         <mass value="0.001"/>
         <inertia ixx="1e-09" iyy="1e-09" izz="1e-09" ixy="0" ixz="0" iyz="0"/>
      </inertial>
   </link>
   <joint type="fixed" name="middle_mp2middle_fingertip_fixed">
      <parent link="middle_mp"/>
      <child link="middle_mp2middle_fingertip_fixed_jointbody"/>
      <origin xyz="-0.009 0.0 0.04" rpy="0.0 0.0 0.0"/>
   </joint>
   <joint type="fixed" name="middle_mp2middle_fingertip_fixed_offset">
      <parent link="middle_mp2middle_fingertip_fixed_jointbody"/>
      <child link="middle_fingertip"/>
      <origin xyz="-0.0 -0.0 -0.0" rpy="0.0 0.0 0.0"/>
   </joint>
   <link name="ring_um">
      <inertial>
         <origin xyz="0.011354078973426326 -1.7071698548170895e-06 -3.5584781475470163e-06" rpy="-0.7312124368167698 -1.5694148998517659 -2.4105624217590647"/>
         <mass value="0.006625913032045117"/>
         <inertia ixx="4.786348664569036e-07" iyy="4.4192916777269033e-07" izz="2.7095034582421024e-07" ixy="0" ixz="0" iyz="0"/>
      </inertial>
      <visual name="AP-Assembly">
         <origin xyz="0.011354078973426326 -1.7071698548170895e-06 -3.5584781475470163e-06" rpy="-0.7312124368167698 -1.5694148998517659 -2.4105624217590647"/>
         <geometry>
            <mesh filename="package://viz/models/orca_v1/urdf/converted_AP-Assembly.stl"/>
         </geometry>
         <material name="white"/>
      </visual>
   </link>
   <link name="ring_abd_jointbody">
      <inertial>
         <origin xyz="0.0 0.0 0.0" rpy="0.0 0.0 0.0"/>
         <mass value="0.001"/>
         <inertia ixx="1e-09" iyy="1e-09" izz="1e-09" ixy="0" ixz="0" iyz="0"/>
      </inertial>
   </link>
   <joint type="revolute" name="ring_abd">
      <parent link="palm"/>
      <child link="ring_abd_jointbody"/>
      <origin xyz="0.02151626244325177 0.001539966070889325 0.02082193721565796" rpy="-1.5359724334240115 1.3083608795701225 -3.054411807001147"/>
      <axis xyz="2.0816681711721685e-16 -1.1102230246251565e-16 -0.9999999999999998"/>
      <limit lower="-0.5235987755982988" upper="0.5235987755982988" effort="100" velocity="100"/>
   </joint>
   <joint type="fixed" name="ring_abd_offset">
      <parent link="ring_abd_jointbody"/>
      <child link="ring_um"/>
      <origin xyz="-0.020000000000000052 4.640385298237959e-17 -5.421010862427522e-18" rpy="0.0 0.0 0.0"/>
   </joint>
   <link name="ring_pp">
      <inertial>
         <origin xyz="0.0015215641155183913 3.409155126104343e-06 0.019988197676665105" rpy="-0.0008675700761155622 0.013815007172908844 0.001849376719566181"/>
         <mass value="0.023556963904505242"/>
         <inertia ixx="4.4203229364973464e-06" iyy="4.276694367220302e-06" izz="1.0089823927588865e-06" ixy="0" ixz="0" iyz="0"/>
      </inertial>
      <visual name="M-PP-Assembly">
         <origin xyz="0.0015215641155183913 3.409155126104343e-06 0.019988197676665105" rpy="-0.000867570076115562 0.013815007172908844 0.0018493767195661807"/>
         <geometry>
            <mesh filename="package://viz/models/orca_v1/urdf/converted_M-PP-Assembly.stl"/>
         </geometry>
         <material name="white"/>
      </visual>
   </link>
   <link name="root2ring_pp_jointbody">
      <inertial>
         <origin xyz="0.0 0.0 0.0" rpy="0.0 0.0 0.0"/>
         <mass value="0.001"/>
         <inertia ixx="1e-09" iyy="1e-09" izz="1e-09" ixy="0" ixz="0" iyz="0"/>
      </inertial>
   </link>
   <joint type="revolute" name="root2ring_pp">
      <parent link="ring_um"/>
      <child link="root2ring_pp_jointbody"/>
      <origin xyz="5.000422469950927e-17 2.7821222532288604e-17 -6.247486316027035e-19" rpy="0.0 -1.5707963267948963 0.0"/>
      <axis xyz="0.0 -0.9999999999999998 -5.551115123125783e-17"/>
      <limit lower="-0.3490658503988659" upper="1.9198621771937625" effort="100" velocity="100"/>
   </joint>
   <joint type="fixed" name="root2ring_pp_offset">
      <parent link="root2ring_pp_jointbody"/>
      <child link="ring_pp"/>
      <origin xyz="6.247486316026924e-19 -2.7821222532288604e-17 5.000422469950927e-17" rpy="0.0 0.0 0.0"/>
   </joint>
   <link name="ring_mp">
      <inertial>
         <origin xyz="0.0004395758025904904 2.294210842752089e-05 0.017234999921076924" rpy="-0.0002952414540531474 -0.13694120498566353 0.004582776782163111"/>
         <mass value="0.018229214728618118"/>
         <inertia ixx="2.7483316705449915e-06" iyy="2.7260398150926247e-06" izz="5.982307965118894e-07" ixy="0" ixz="0" iyz="0"/>
      </inertial>
      <visual name="FingerTipAssembly">
         <origin xyz="0.0004395758025904904 2.294210842752089e-05 0.017234999921076924" rpy="-0.0002952414540531474 -0.13694120498566353 0.004582776782163111"/>
         <geometry>
            <mesh filename="package://viz/models/orca_v1/urdf/converted_FingerTipAssembly.stl"/>
         </geometry>
         <material name="white"/>
      </visual>
   </link>
   <link name="ring_pp2mp_jointbody">
      <inertial>
         <origin xyz="0.0 0.0 0.0" rpy="0.0 0.0 0.0"/>
         <mass value="0.001"/>
         <inertia ixx="1e-09" iyy="1e-09" izz="1e-09" ixy="0" ixz="0" iyz="0"/>
      </inertial>
   </link>
   <joint type="revolute" name="ring_pp2mp">
      <parent link="ring_pp"/>
      <child link="ring_pp2mp_jointbody"/>
      <origin xyz="0.0004999999999727536 -3.2334689427772335e-19 0.046000000000000194" rpy="5.551115123125783e-17 0.0 1.1102230246251565e-16"/>
      <axis xyz="0.0 -0.9999999999999998 -5.551115123125783e-17"/>
      <limit lower="-0.3490658503988659" upper="2.2689280275926285" effort="100" velocity="100"/>
   </joint>
   <joint type="fixed" name="ring_pp2mp_offset">
      <parent link="ring_pp2mp_jointbody"/>
      <child link="ring_mp"/>
      <origin xyz="6.5371804131346096e-18 1.5935858178068978e-17 -1.6822041242320552e-16" rpy="0.0 0.0 0.0"/>
   </joint>
   <link name="ring_fingertip">
      <inertial>
         <origin xyz="-0.009 0.0 0.04" rpy="0.0 0.0 0.0"/>
         <mass value="0.0"/>
         <inertia ixx="0.0" iyy="0.0" izz="0.0" ixy="0" ixz="0" iyz="0"/>
      </inertial>
   </link>
   <link name="ring_mp2ring_fingertip_fixed_jointbody">
      <inertial>
         <origin xyz="0.0 0.0 0.0" rpy="0.0 0.0 0.0"/>
         <mass value="0.001"/>
         <inertia ixx="1e-09" iyy="1e-09" izz="1e-09" ixy="0" ixz="0" iyz="0"/>
      </inertial>
   </link>
   <joint type="fixed" name="ring_mp2ring_fingertip_fixed">
      <parent link="ring_mp"/>
      <child link="ring_mp2ring_fingertip_fixed_jointbody"/>
      <origin xyz="-0.009 0.0 0.04" rpy="0.0 0.0 0.0"/>
   </joint>
   <joint type="fixed" name="ring_mp2ring_fingertip_fixed_offset">
      <parent link="ring_mp2ring_fingertip_fixed_jointbody"/>
      <child link="ring_fingertip"/>
      <origin xyz="-0.0 -0.0 -0.0" rpy="0.0 0.0 0.0"/>
   </joint>
   <material name="white">
      <color rgba="1 1 1 1"/>
   </material>
</robot>
